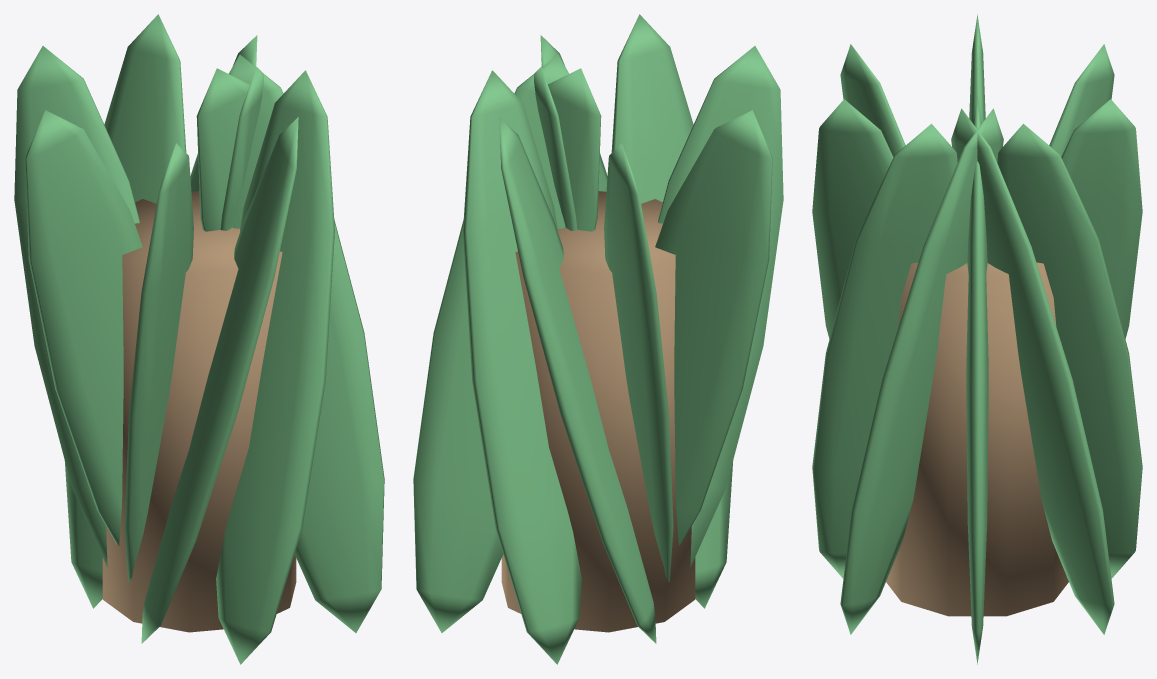
File: env_prehistoric_cycad.glb
3 views of the same model, side by side, from view 1: azimuth 30°, elevation 25°; view 2: azimuth 150°, elevation 25°; view 3: azimuth 270°, elevation 25° (orthographic). The views are drawn at different scales.
Visible parts, largest first — view 1: cone; view 2: cone; view 3: cone.
Boxes of the visible parts, <box> form: cone: <box>14,14,384,664</box>; cone: <box>413,14,783,664</box>; cone: <box>812,14,1142,664</box>.
Bounding box in the file's own units: 1.01 × 1.49 × 0.8771.
